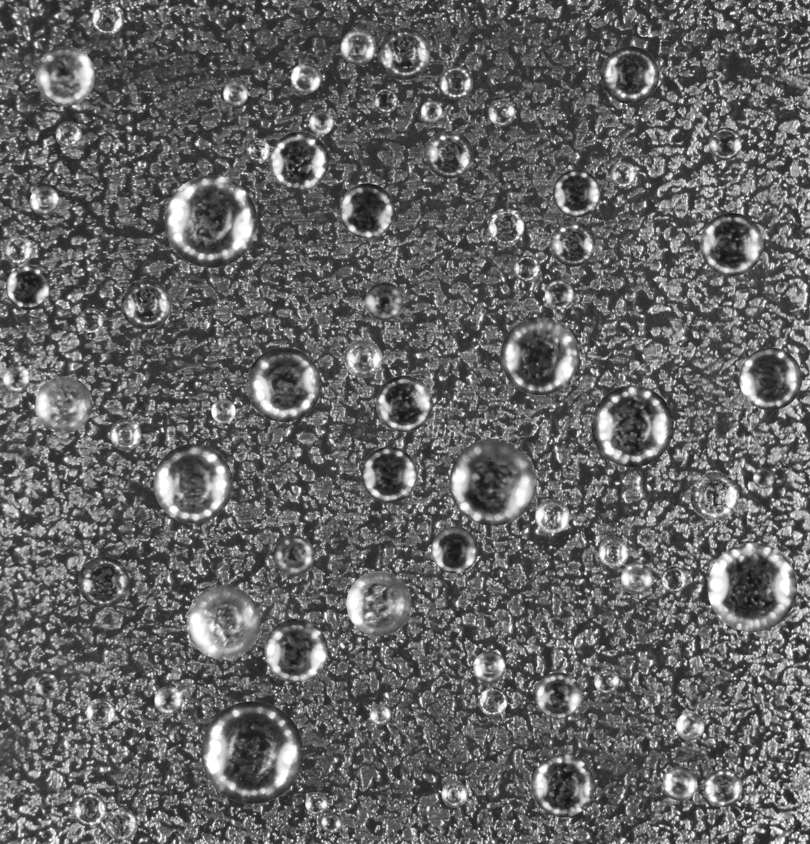Bubble: (201, 701, 303, 803), (164, 175, 257, 267), (707, 542, 797, 632), (449, 438, 536, 525), (591, 385, 673, 467), (153, 444, 232, 523), (500, 317, 578, 395), (246, 347, 321, 422), (186, 585, 260, 659), (346, 571, 411, 636), (700, 212, 763, 276), (264, 618, 327, 682), (739, 347, 802, 410), (531, 754, 594, 817), (35, 46, 95, 105), (270, 131, 329, 190), (601, 46, 659, 103), (35, 376, 92, 433), (361, 446, 417, 503), (376, 375, 432, 432), (339, 183, 394, 238), (377, 27, 430, 80), (78, 556, 129, 607), (121, 279, 171, 329), (690, 472, 739, 520), (425, 130, 473, 178), (552, 169, 600, 217), (431, 526, 478, 573), (535, 672, 581, 718), (550, 221, 595, 266), (5, 265, 50, 309), (273, 535, 314, 576), (704, 769, 742, 807), (365, 282, 403, 320), (344, 340, 382, 377), (488, 208, 524, 244), (340, 29, 375, 64), (72, 792, 106, 826), (535, 499, 569, 533), (663, 766, 697, 800), (439, 66, 473, 99), (708, 127, 741, 160), (105, 807, 137, 840), (473, 651, 505, 683), (92, 2, 124, 34), (109, 419, 141, 450), (621, 562, 652, 594), (598, 536, 629, 567), (290, 62, 321, 93), (544, 280, 574, 309), (30, 186, 59, 215), (3, 235, 32, 264), (478, 687, 507, 716), (86, 698, 114, 727), (676, 712, 704, 740), (154, 686, 182, 714), (513, 255, 540, 282), (3, 365, 30, 392), (661, 566, 687, 592), (488, 99, 514, 125), (441, 781, 467, 807), (610, 161, 636, 187), (55, 121, 81, 147), (594, 668, 619, 693), (223, 81, 248, 106), (78, 308, 103, 332), (373, 88, 397, 113), (309, 110, 333, 134), (211, 399, 235, 423), (246, 138, 269, 161), (35, 673, 58, 696), (420, 100, 442, 122), (305, 792, 327, 814), (369, 704, 390, 725), (753, 467, 774, 488), (321, 812, 342, 833), (643, 689, 660, 706), (637, 22, 651, 36), (41, 804, 54, 816), (515, 25, 525, 34)
